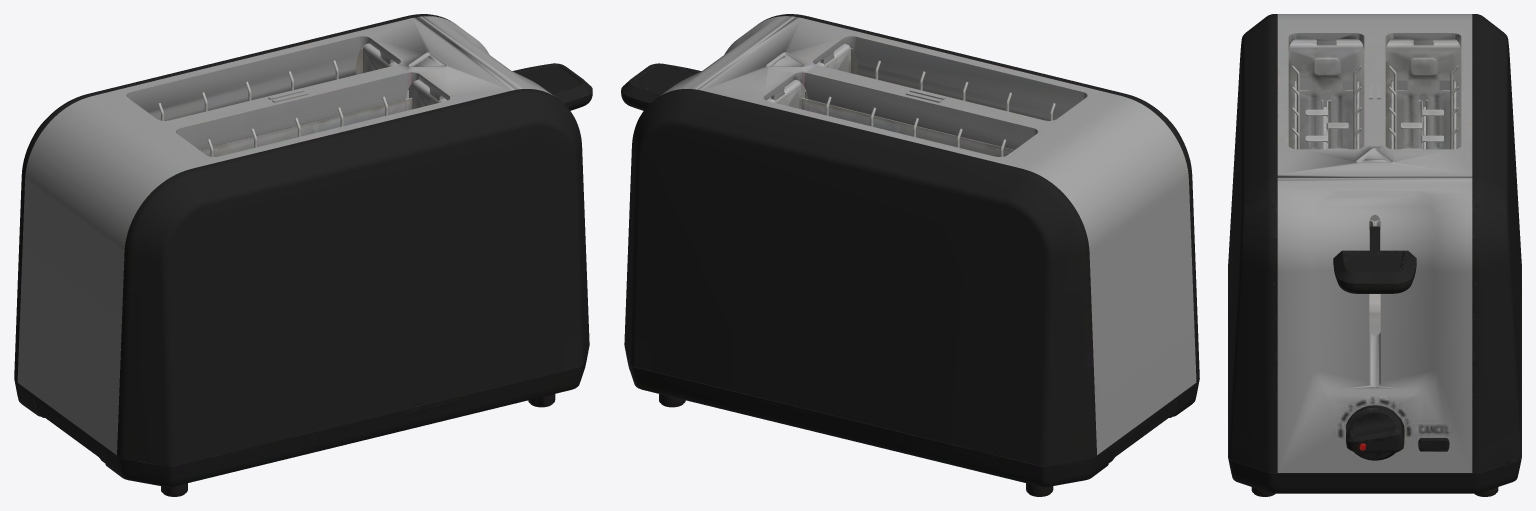
The model's file is sr_appliance_toaster_a01.glb.
3 views of the same model, side by side, from view 1: azimuth 30°, elevation 25°; view 2: azimuth 150°, elevation 25°; view 3: azimuth 270°, elevation 25° (orthographic).
Parts seen in each view (by area): view 1: m_opaque__plastic__toaster_v01_01_1; view 2: m_opaque__plastic__toaster_v01_01_1; view 3: m_opaque__plastic__toaster_v01_01_1.
Part boxes in pixels (box(x1,y1,x2,y2)): m_opaque__plastic__toaster_v01_01_1: box(14, 14, 592, 496); m_opaque__plastic__toaster_v01_01_1: box(621, 14, 1199, 496); m_opaque__plastic__toaster_v01_01_1: box(1228, 14, 1521, 496).
Size of the model in its own units: 0.3066 by 0.1791 by 0.1549.
1 material, 1 textured.
